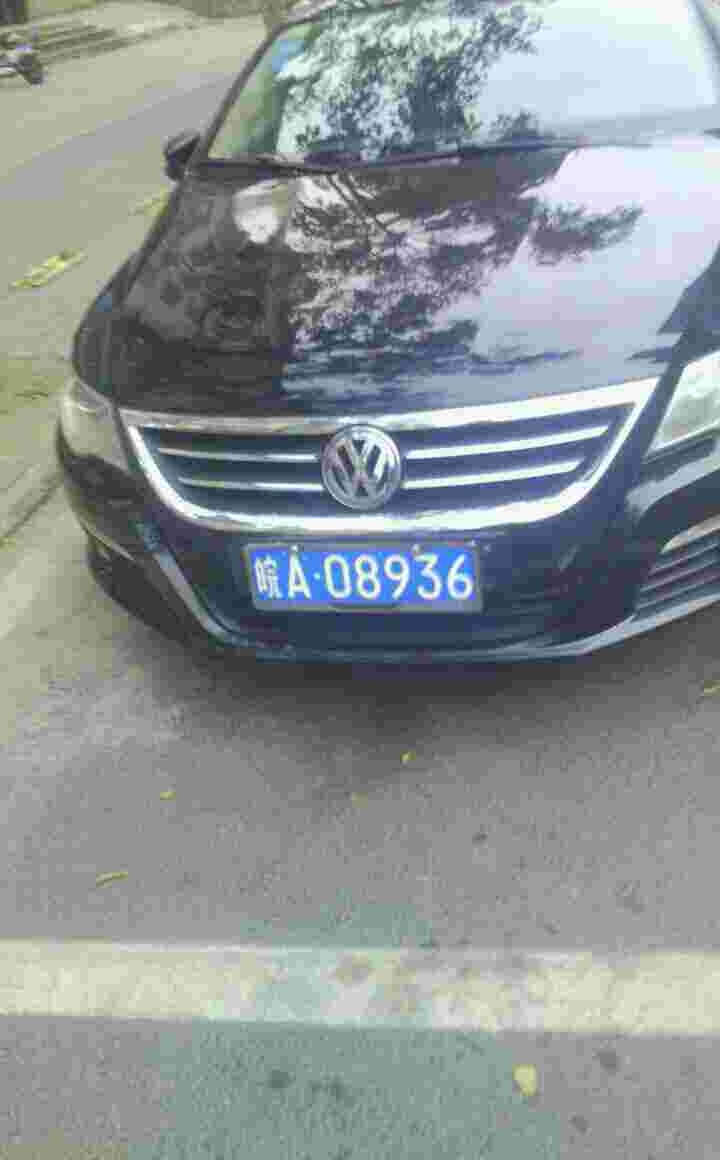license_plate: (258, 548, 482, 610)
